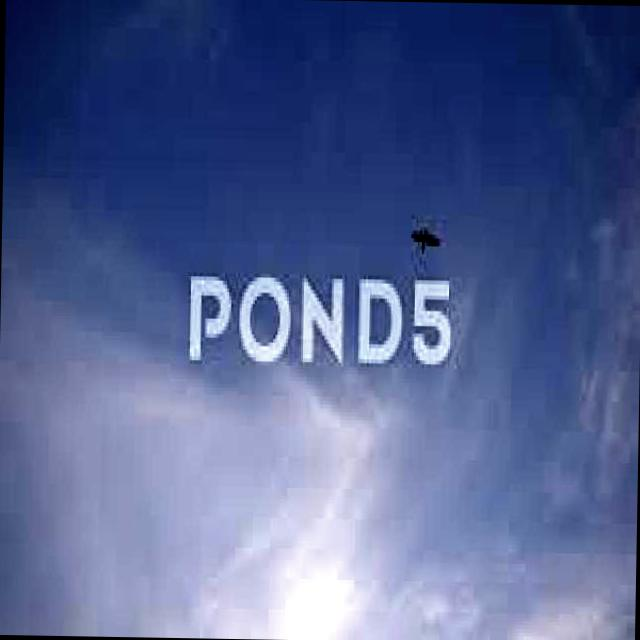bird: (408, 223, 439, 256)
